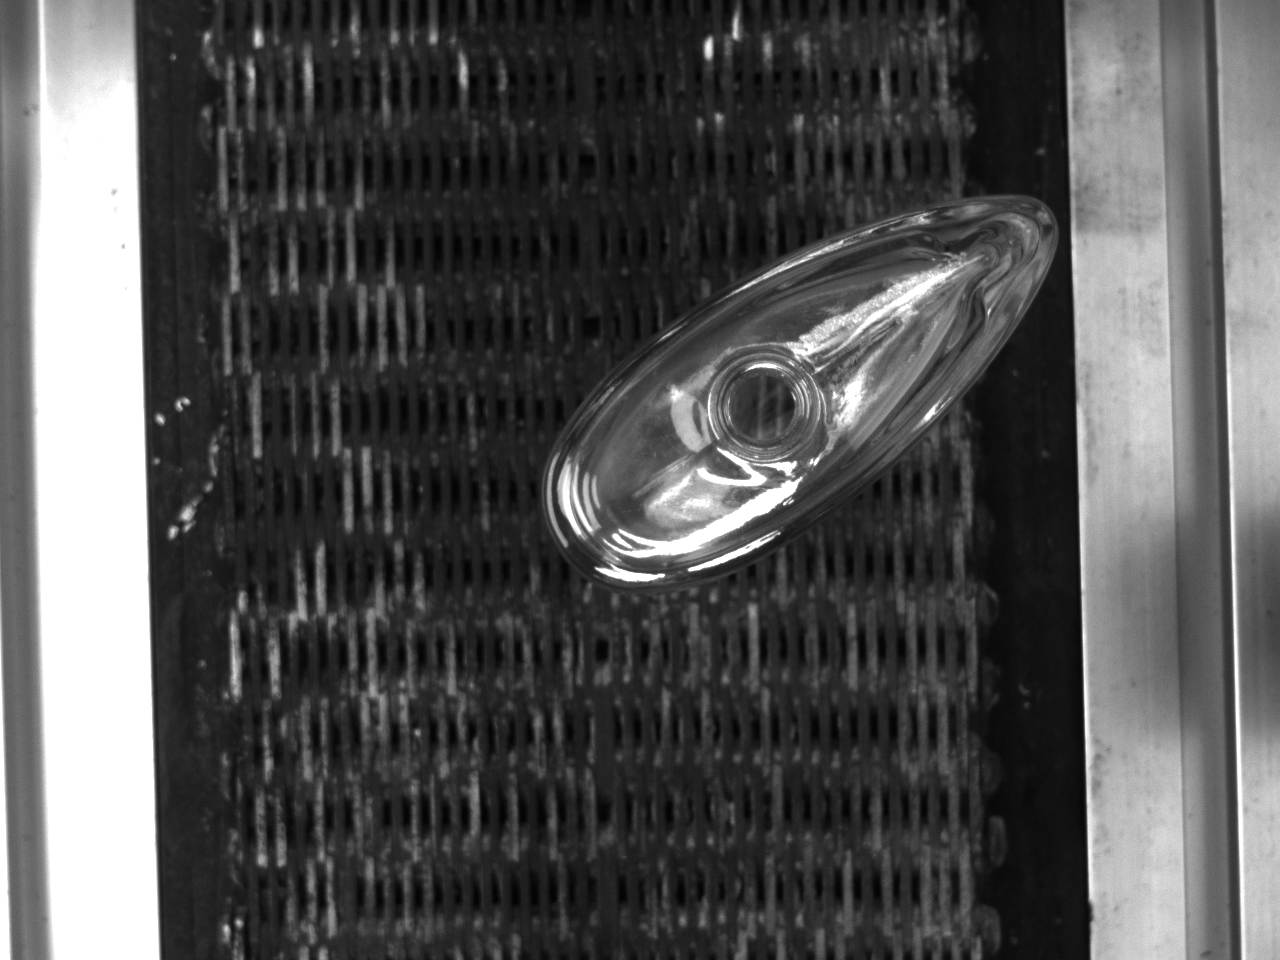bottleneck: (709, 353, 822, 461)
